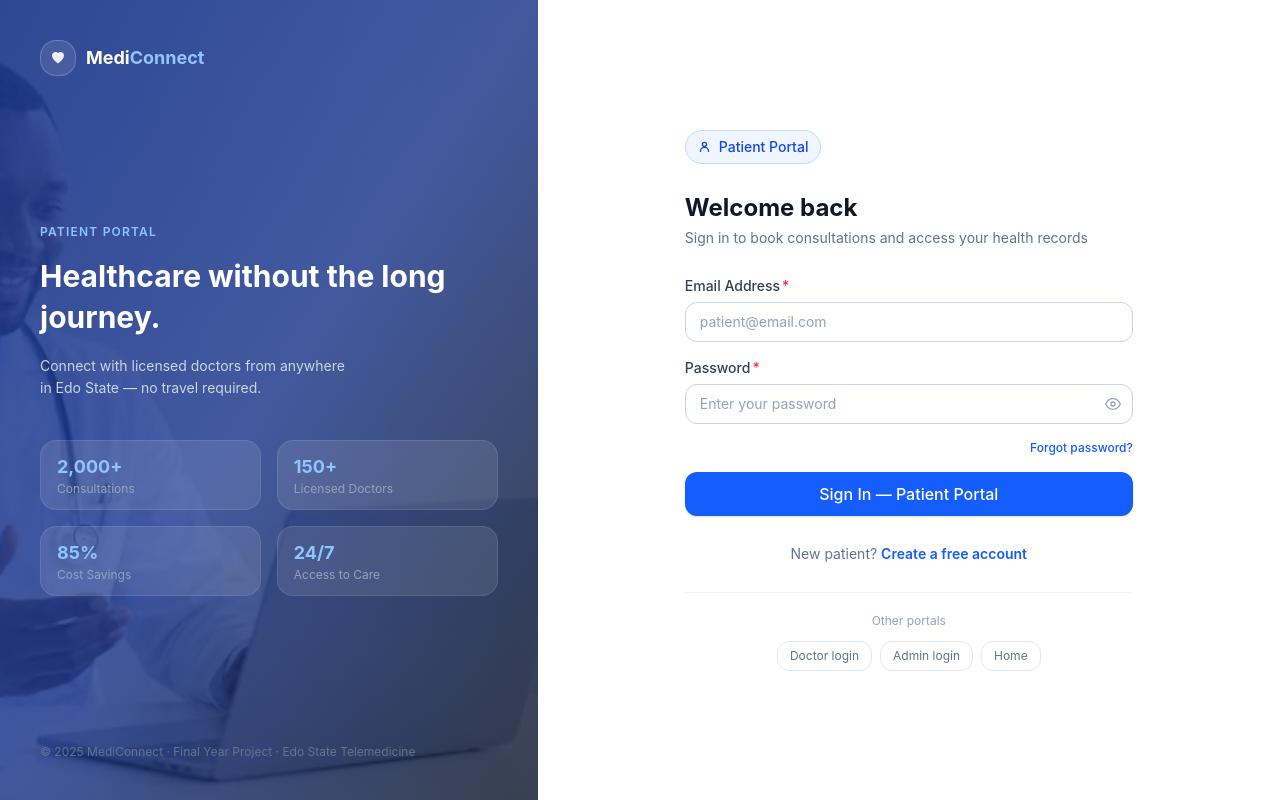
Login page — patient role › shows validation error for invalid email format
Type "notanemail" into the field with placeholder "patient@email.com" at (909, 322), box [685,302,1133,342]
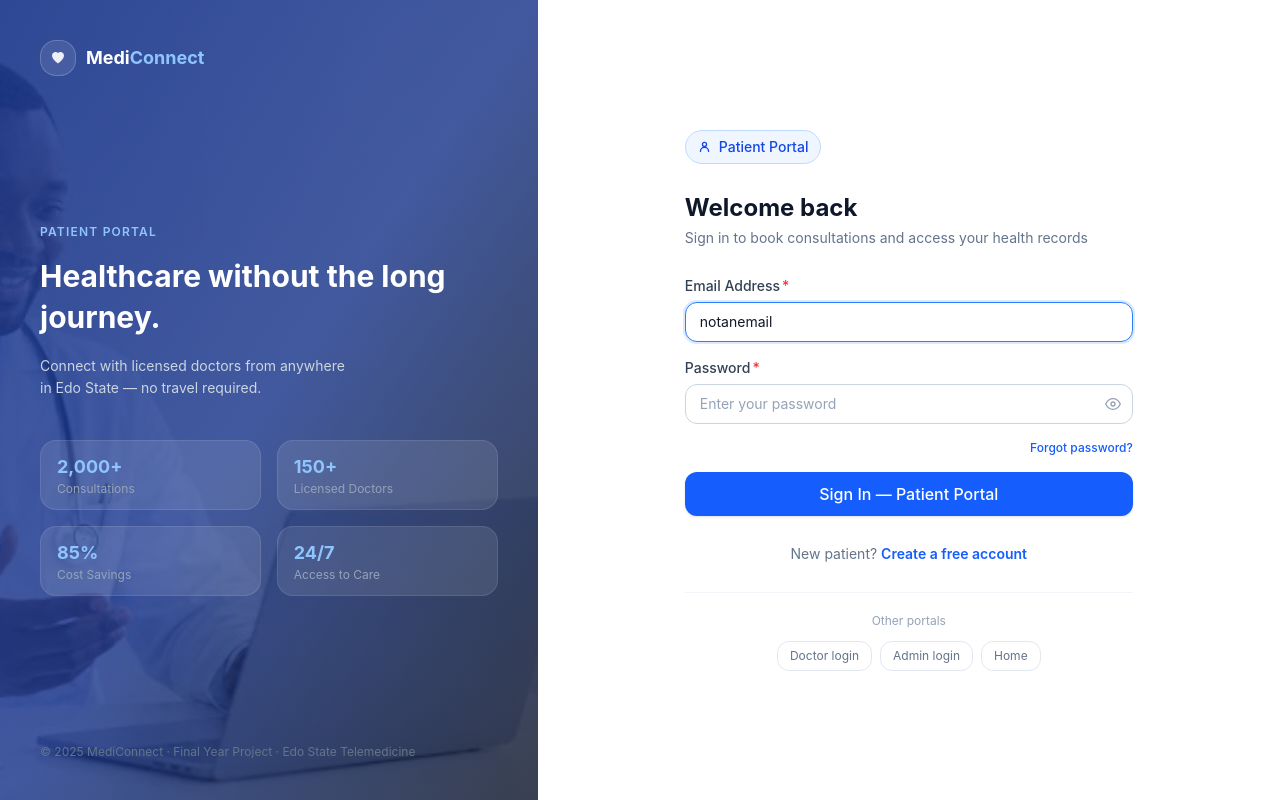
Click the button "Sign In — Patient Portal" at (909, 494), box [685,472,1133,516]
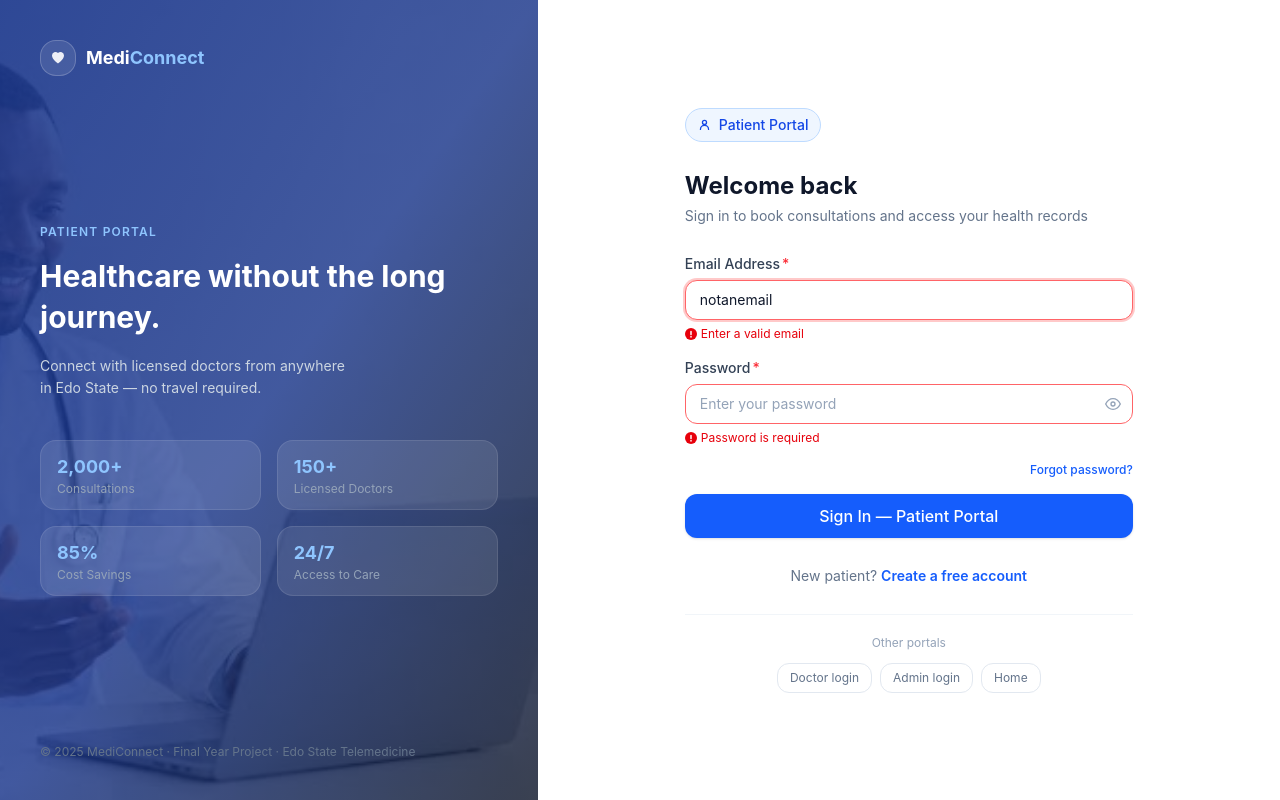
Check: the text "Enter a valid email" is shown, box [685,326,804,340]
